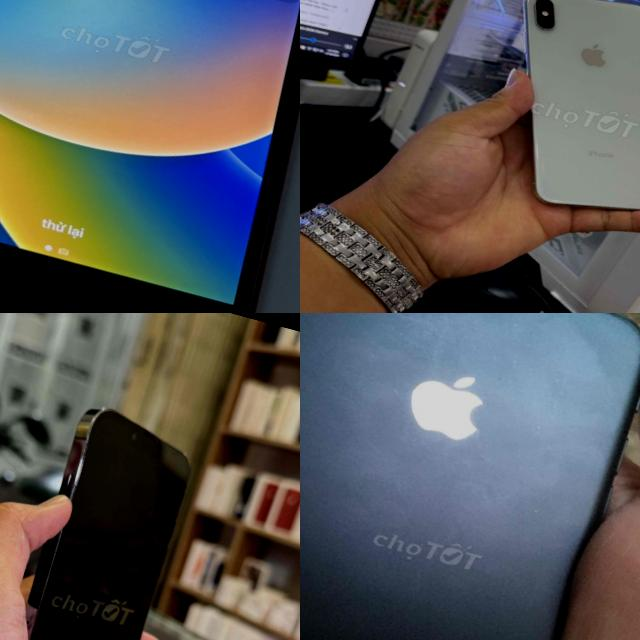gen_12_13: (0, 397, 206, 640)
gen_7_8: (300, 313, 640, 640), (0, 0, 300, 313)
gen_x_xs: (442, 0, 640, 241)
